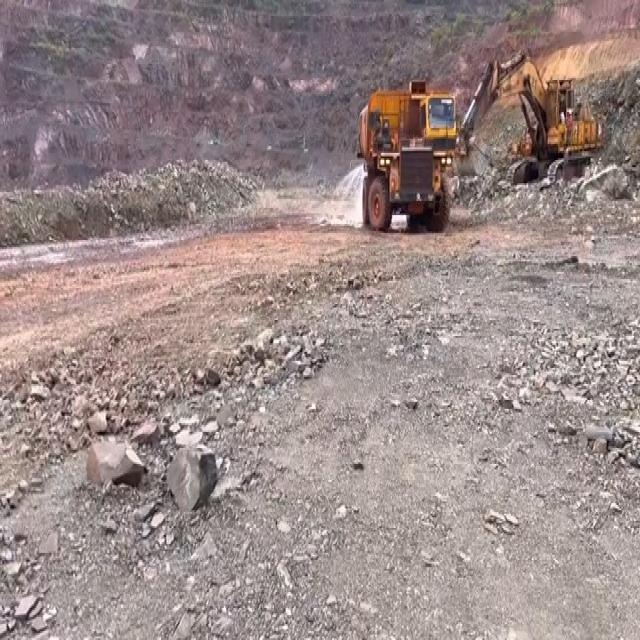dump_truck: (351, 78, 459, 227)
excavator: (460, 50, 607, 176)
